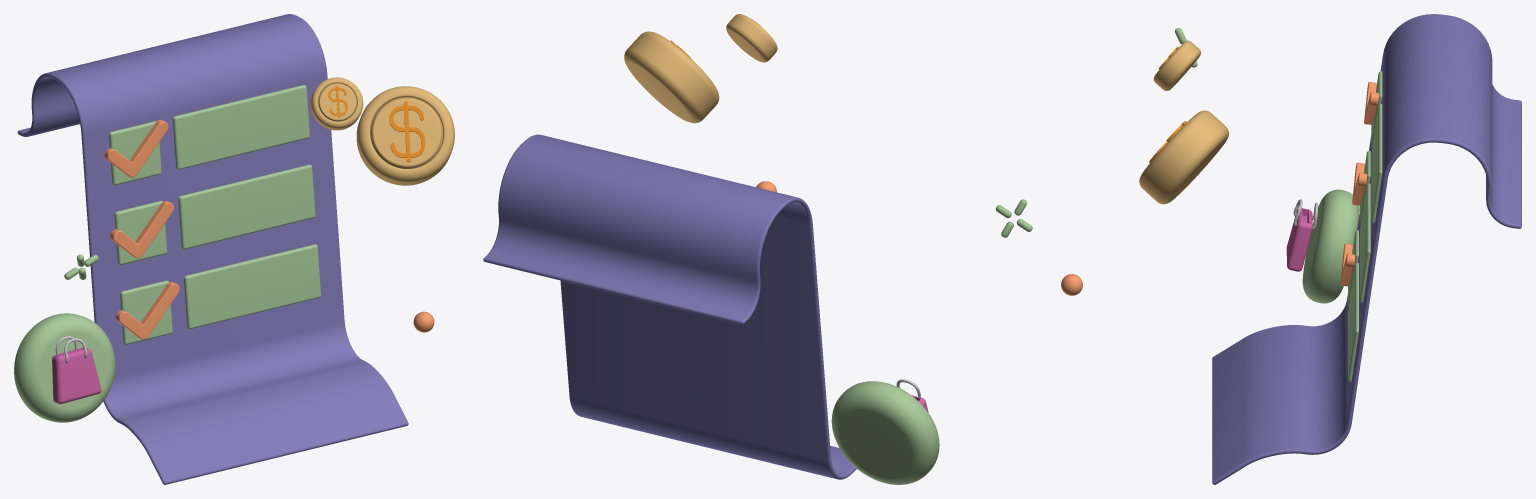
The model's file is e-commerce-3d-animated-icon-1386454692462.glb.
3 renders of one model, left to right at view 1: azimuth 30°, elevation 25°; view 2: azimuth 150°, elevation 25°; view 3: azimuth 270°, elevation 25°, orthographic. The views are drawn at different scales.
Parts seen in each view (by area): view 1: Plane, Cube.004, Cube.005, Cube.001, Cylinder.009, Cylinder, Cube.016, Cylinder.001, Cube.003, Cube, Cube.002, Curve.003 (+3 smaller); view 2: Plane, Cylinder, Cylinder.009, Cylinder.001; view 3: Plane, Cylinder.009, Cylinder, Cylinder.001, Cube.016, Cube.004, Cube.001, Cube.005.
Boxes of the visible parts, x1,y1,x2,y2 form: Plane: [17, 14, 408, 484]; Cube.004: [178, 164, 315, 249]; Cube.005: [184, 244, 321, 329]; Cube.001: [172, 85, 309, 169]; Cylinder.009: [356, 86, 454, 185]; Cylinder: [14, 313, 115, 422]; Cube.016: [52, 347, 101, 404]; Cylinder.001: [310, 77, 363, 130]; Cube.003: [120, 280, 172, 344]; Cube: [109, 121, 161, 185]; Cube.002: [114, 200, 167, 264]; Curve.003: [104, 120, 168, 177]; Plane: [483, 134, 856, 479]; Cylinder: [831, 381, 939, 484]; Cylinder.009: [624, 31, 719, 123]; Cylinder.001: [726, 14, 777, 62]; Plane: [1212, 14, 1521, 484]; Cylinder.009: [1139, 110, 1228, 204]; Cylinder: [1302, 189, 1359, 303]; Cylinder.001: [1153, 40, 1200, 90]; Cube.016: [1286, 208, 1312, 271]; Cube.004: [1359, 183, 1370, 302]; Cube.001: [1371, 104, 1382, 223]; Cube.005: [1348, 263, 1358, 382].
Size of the model in its own units: 1.96 by 1.86 by 1.95.
